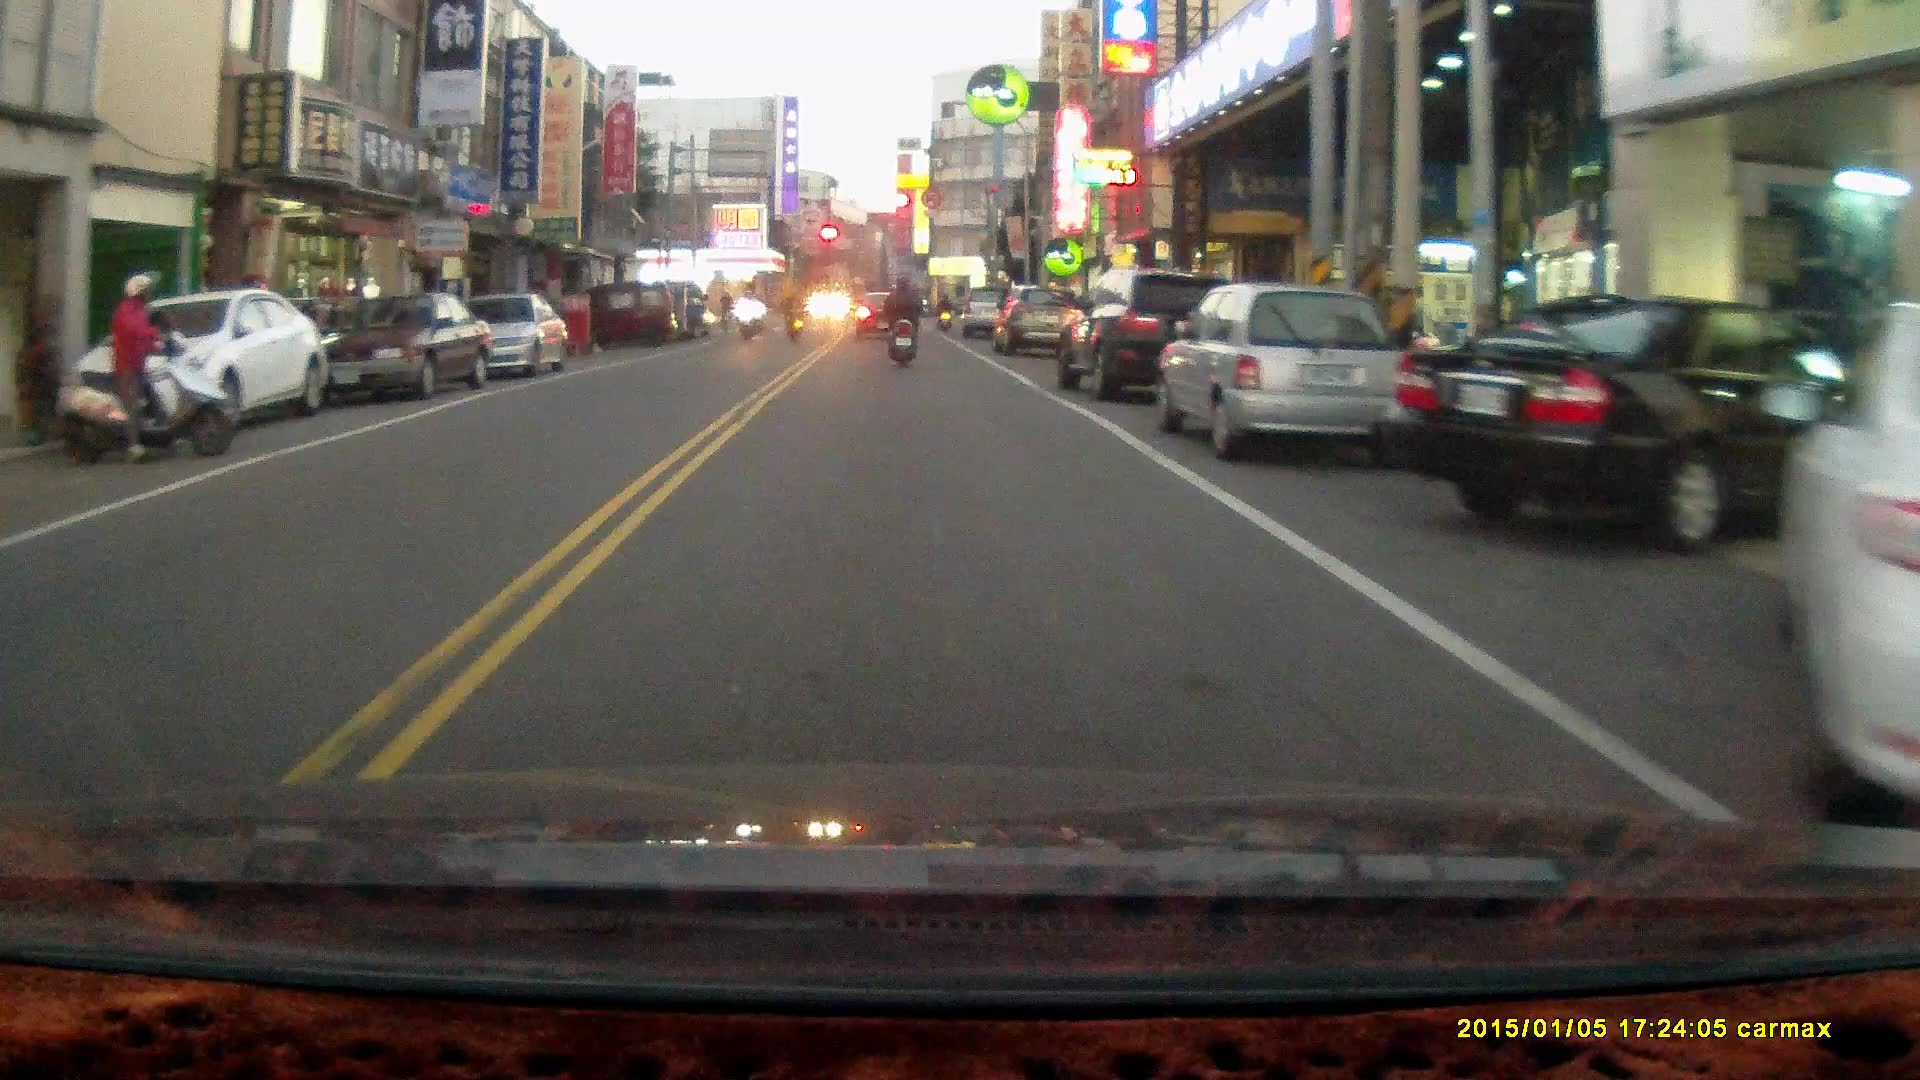rider: (55, 269, 238, 465), (882, 270, 923, 370), (779, 286, 807, 347), (736, 290, 760, 343), (714, 286, 734, 339), (931, 290, 953, 334)
vehicle: (1387, 298, 1867, 566), (1777, 390, 1920, 780), (1152, 291, 1402, 464), (53, 287, 333, 438), (1052, 267, 1263, 406), (301, 296, 488, 408), (447, 293, 570, 382), (999, 289, 1074, 363), (592, 287, 674, 351)
